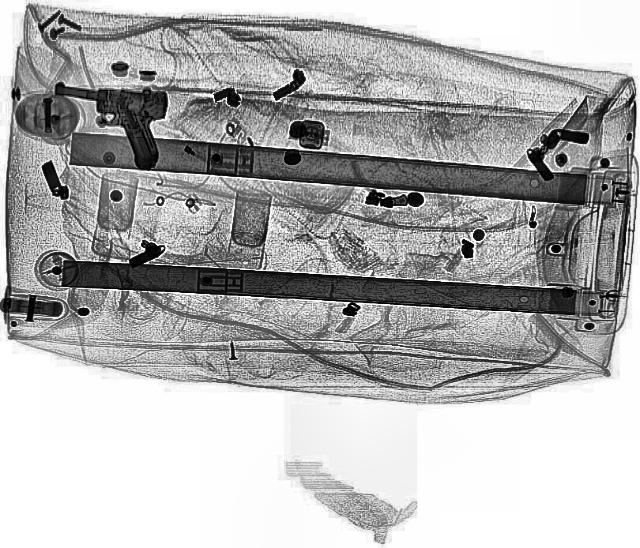Gun: (42, 81, 172, 169)
